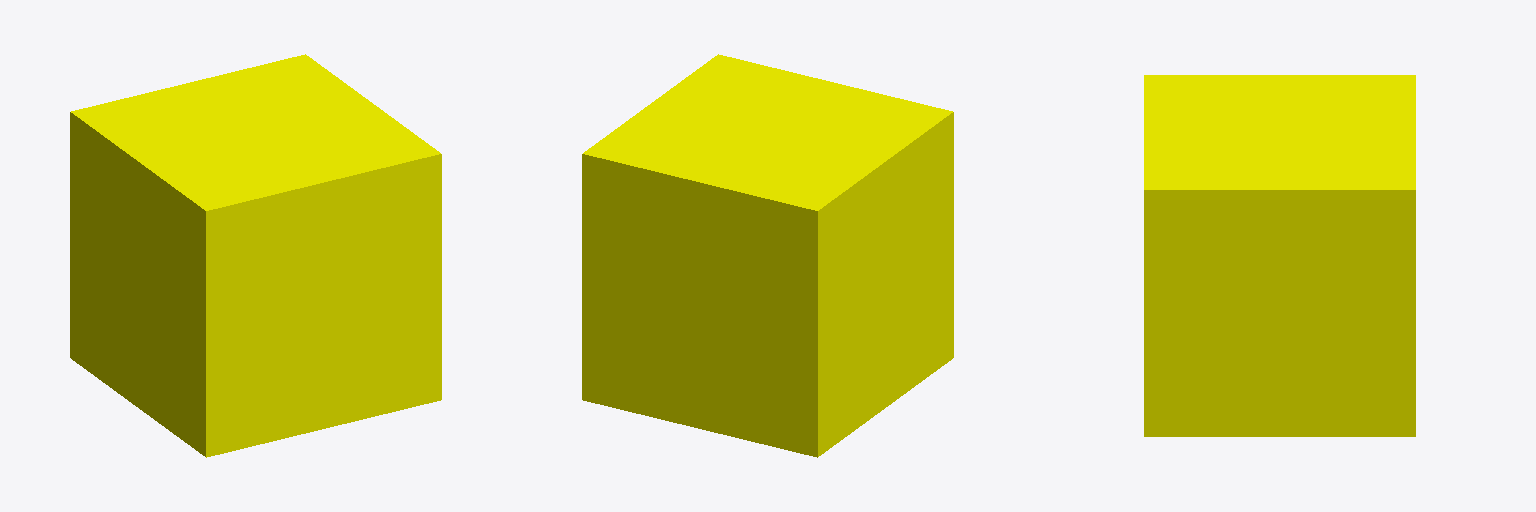
3 renders of one model, left to right at view 1: azimuth 30°, elevation 25°; view 2: azimuth 150°, elevation 25°; view 3: azimuth 270°, elevation 25°, orthographic.
Visible parts, largest first — view 1: cube; view 2: cube; view 3: cube.
Part boxes in pixels (bbox=[...]): cube: bbox=[70, 54, 441, 457]; cube: bbox=[582, 54, 953, 457]; cube: bbox=[1144, 75, 1415, 436].
Bounding box in the file's own units: 0.25 × 0.25 × 0.25.
1 materials, 1 textured.